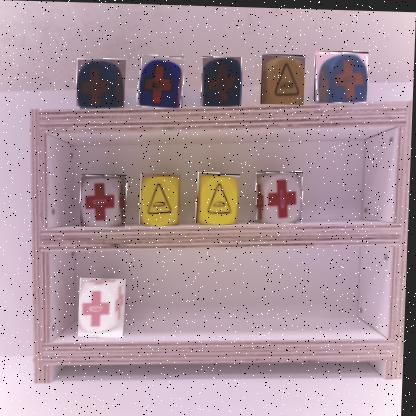CubeBlue: (315, 49, 371, 103), (139, 55, 186, 110), (78, 59, 128, 109), (203, 56, 244, 108)
CubeRed: (81, 279, 130, 340), (82, 174, 130, 229), (258, 170, 306, 224)
CubeYellow: (262, 53, 308, 105), (199, 173, 243, 225), (142, 173, 184, 226)
